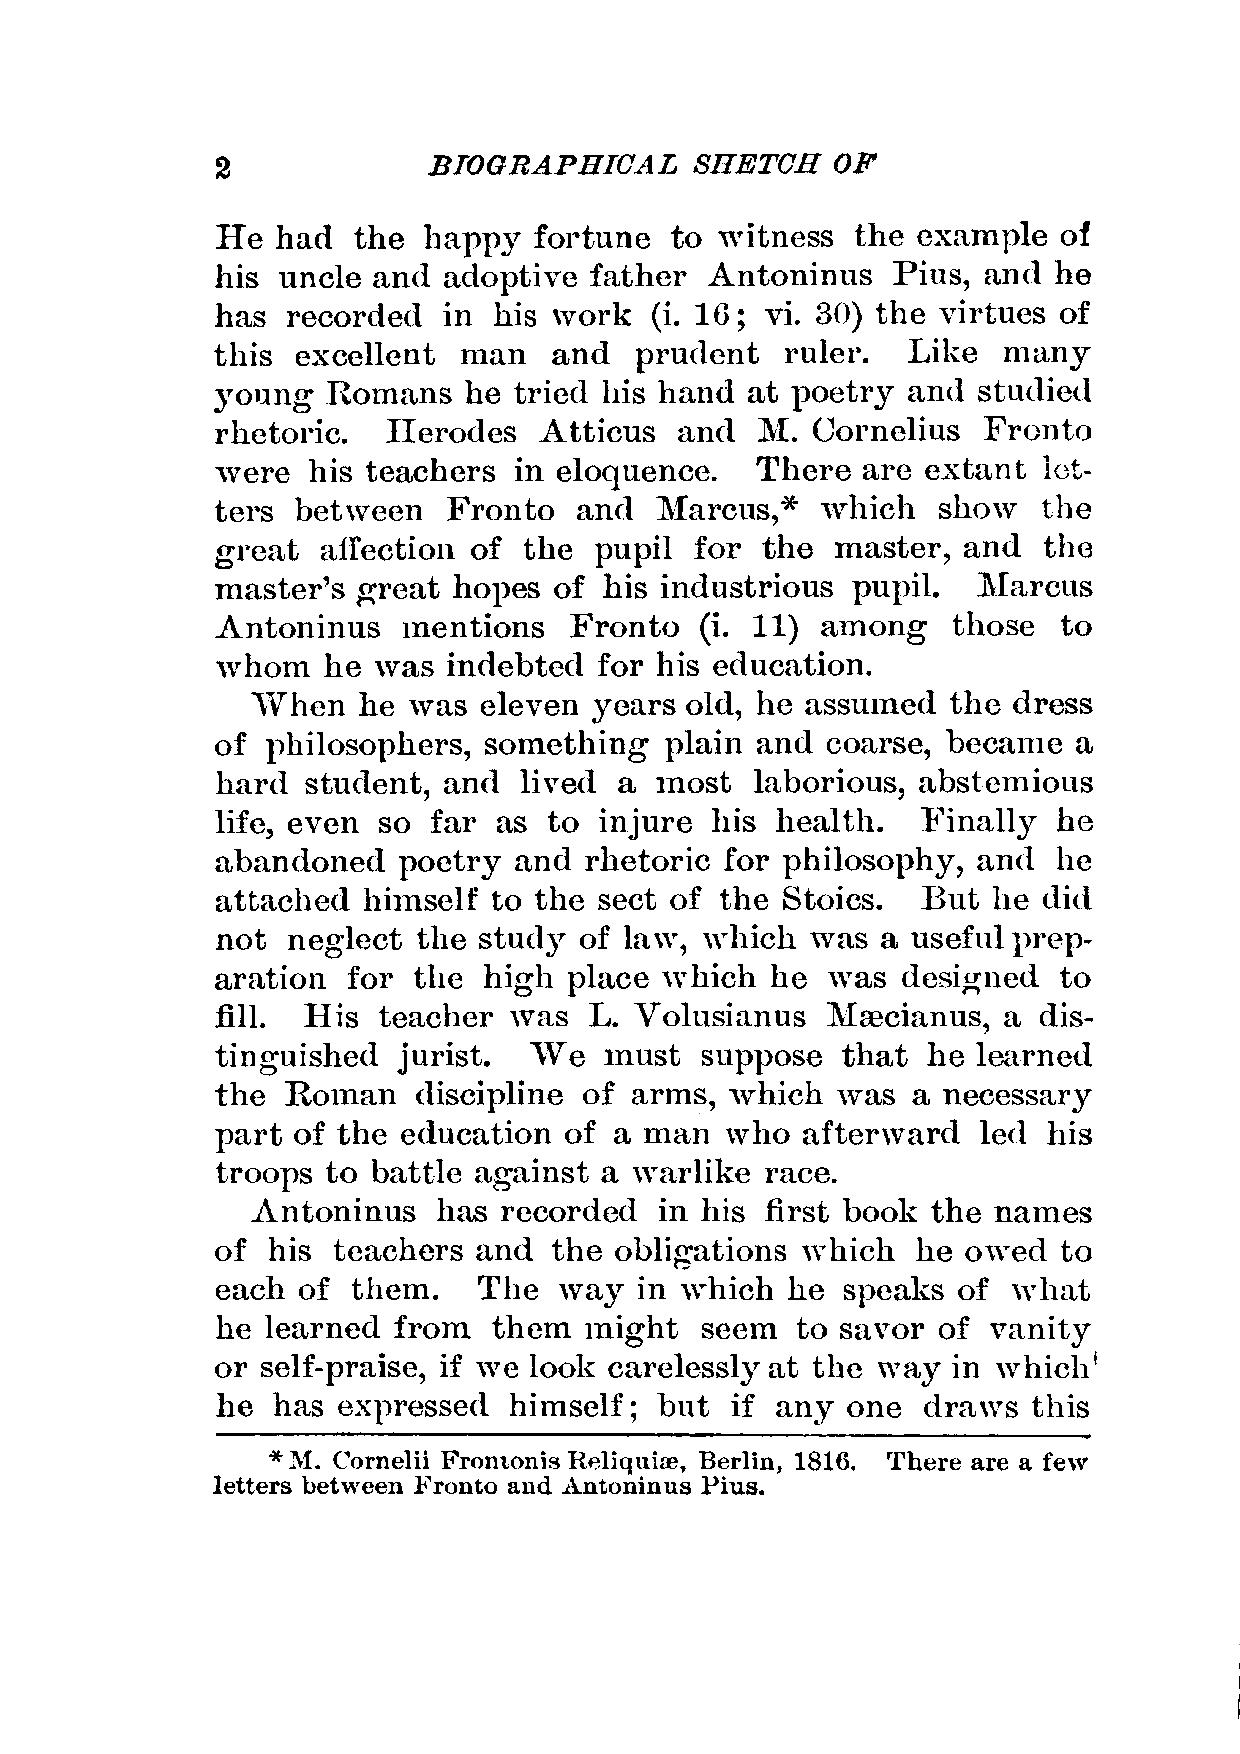content: (209, 219, 1103, 1496)
content_chapter: (421, 149, 880, 178)
content_pagenumber: (203, 152, 236, 184)
